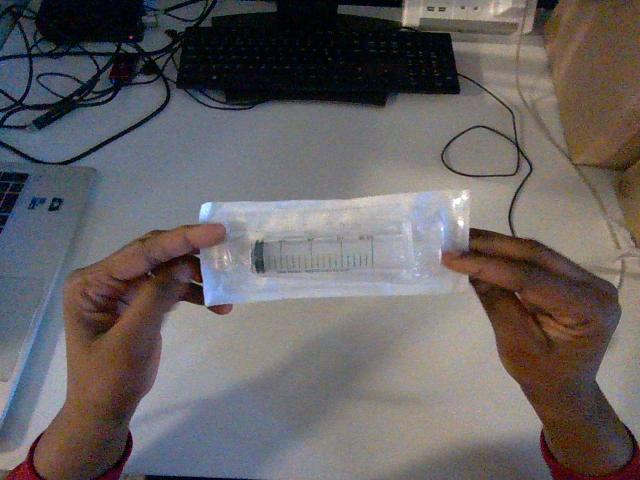syringe: (200, 191, 469, 305)
